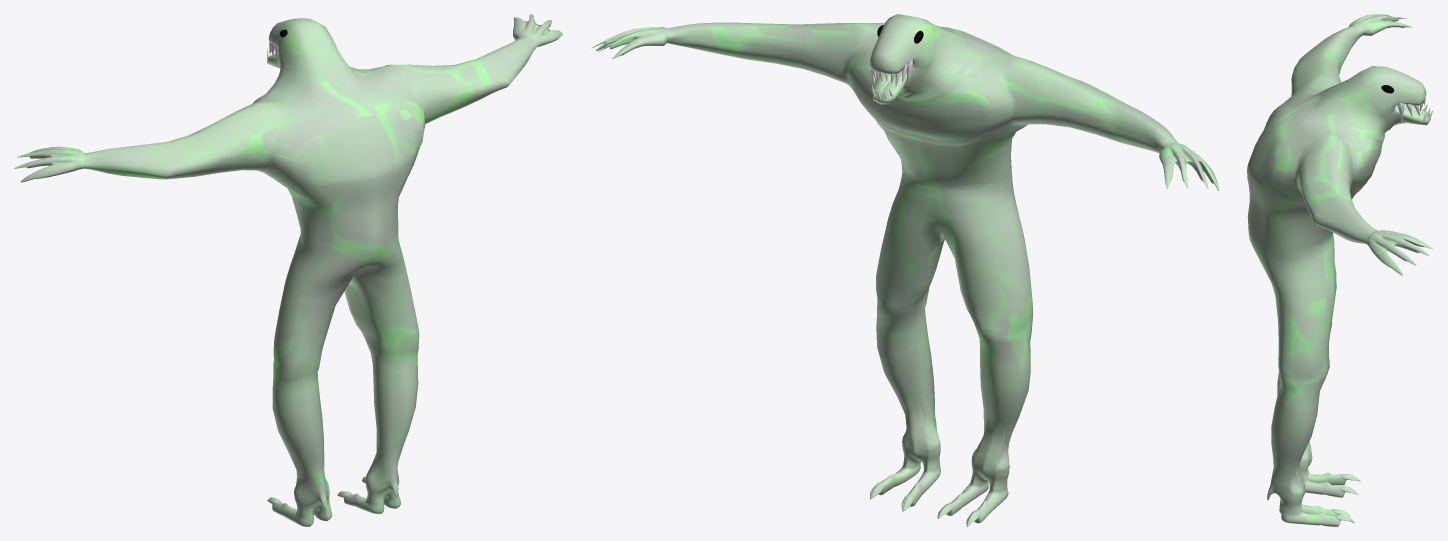
Rendered from Berserkeraranar.0013.obj.
3 renders of one model, left to right at view 1: azimuth 30°, elevation 25°; view 2: azimuth 150°, elevation 25°; view 3: azimuth 270°, elevation 25°, orthographic. The views are drawn at different scales.
Visible parts, largest first — view 1: polySurface27; view 2: polySurface27; view 3: polySurface27.
Boxes of the visible parts, <box> form: polySurface27: <box>14,14,562,526</box>; polySurface27: <box>592,14,1218,526</box>; polySurface27: <box>1247,14,1433,526</box>.
Size of the model in its own units: 29.97 by 24.14 by 9.27.
1 material, 1 textured.
